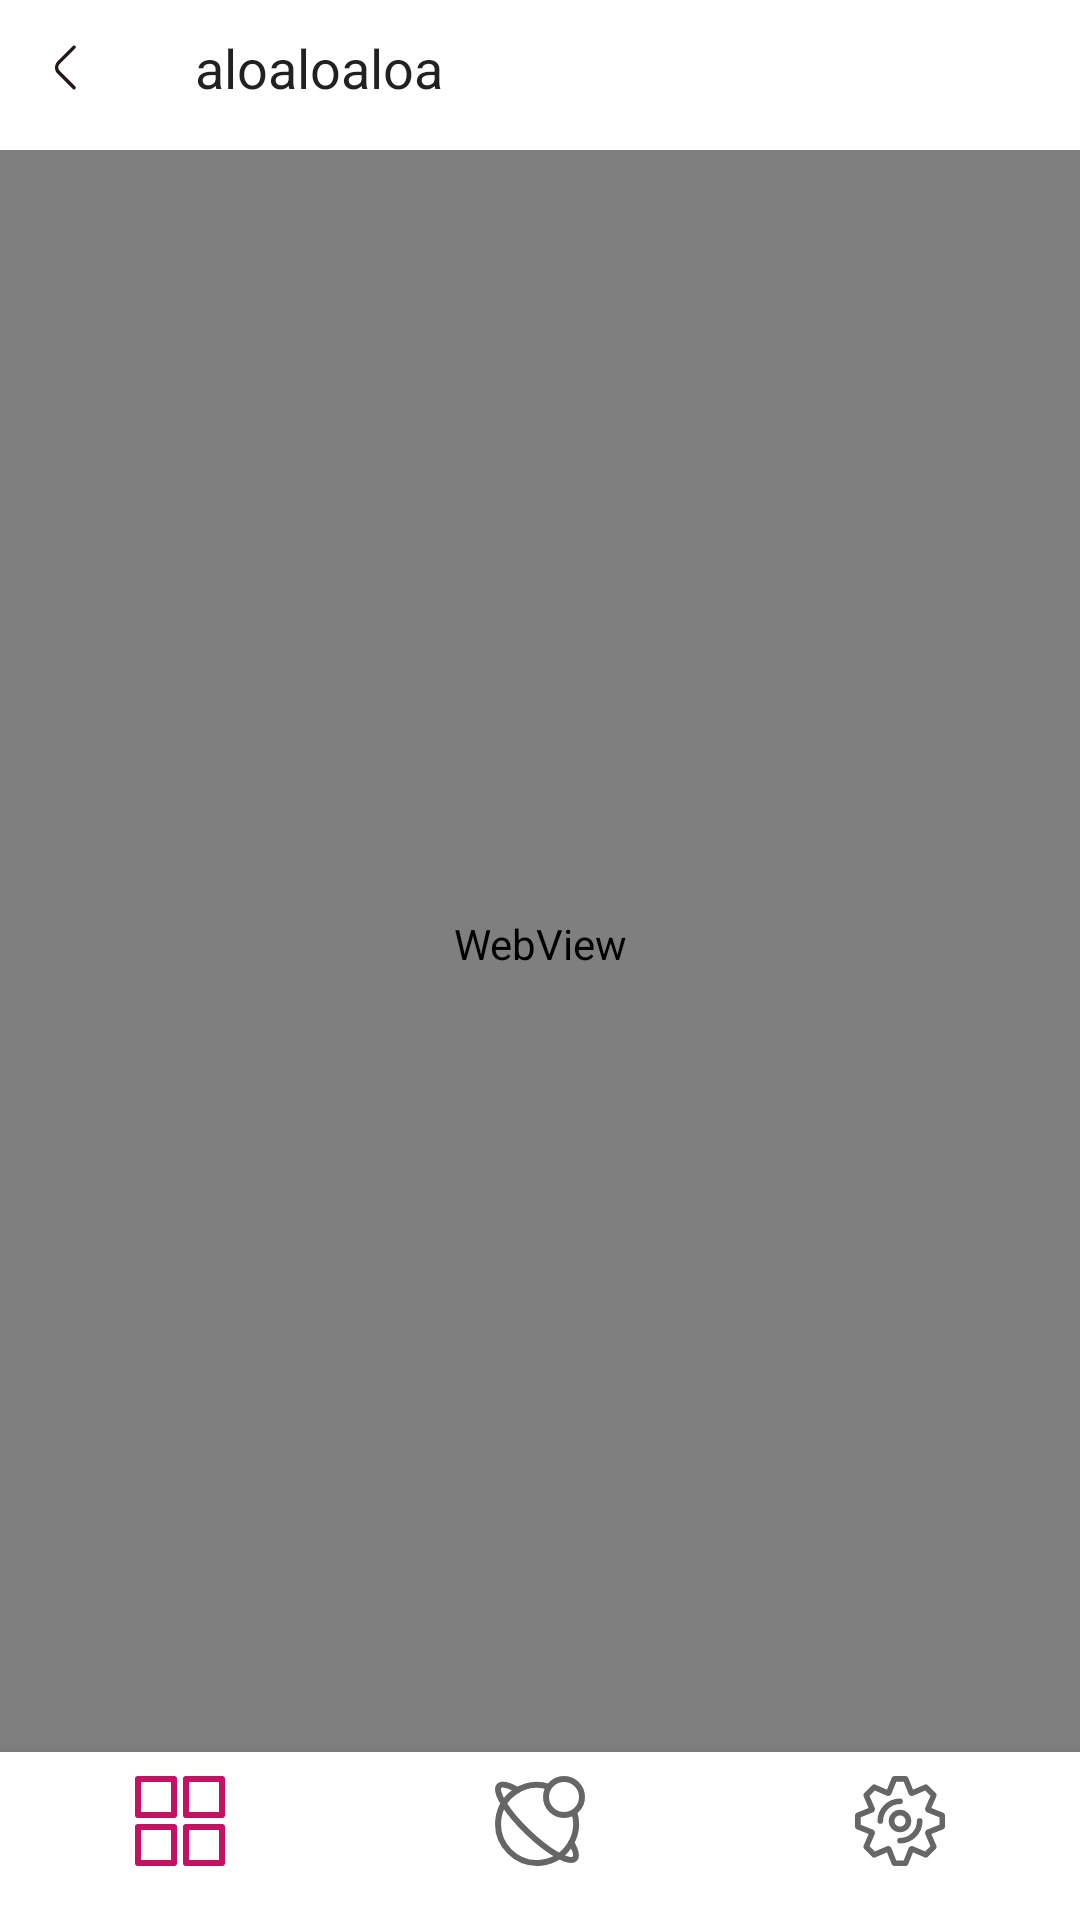

Locate icon controls on the screen. Image size 1080×1920, boxes as (x1=x1, y1=y1, x2=x2, y2=y2).
arrow left: (x1=55, y1=45, x2=76, y2=90)
